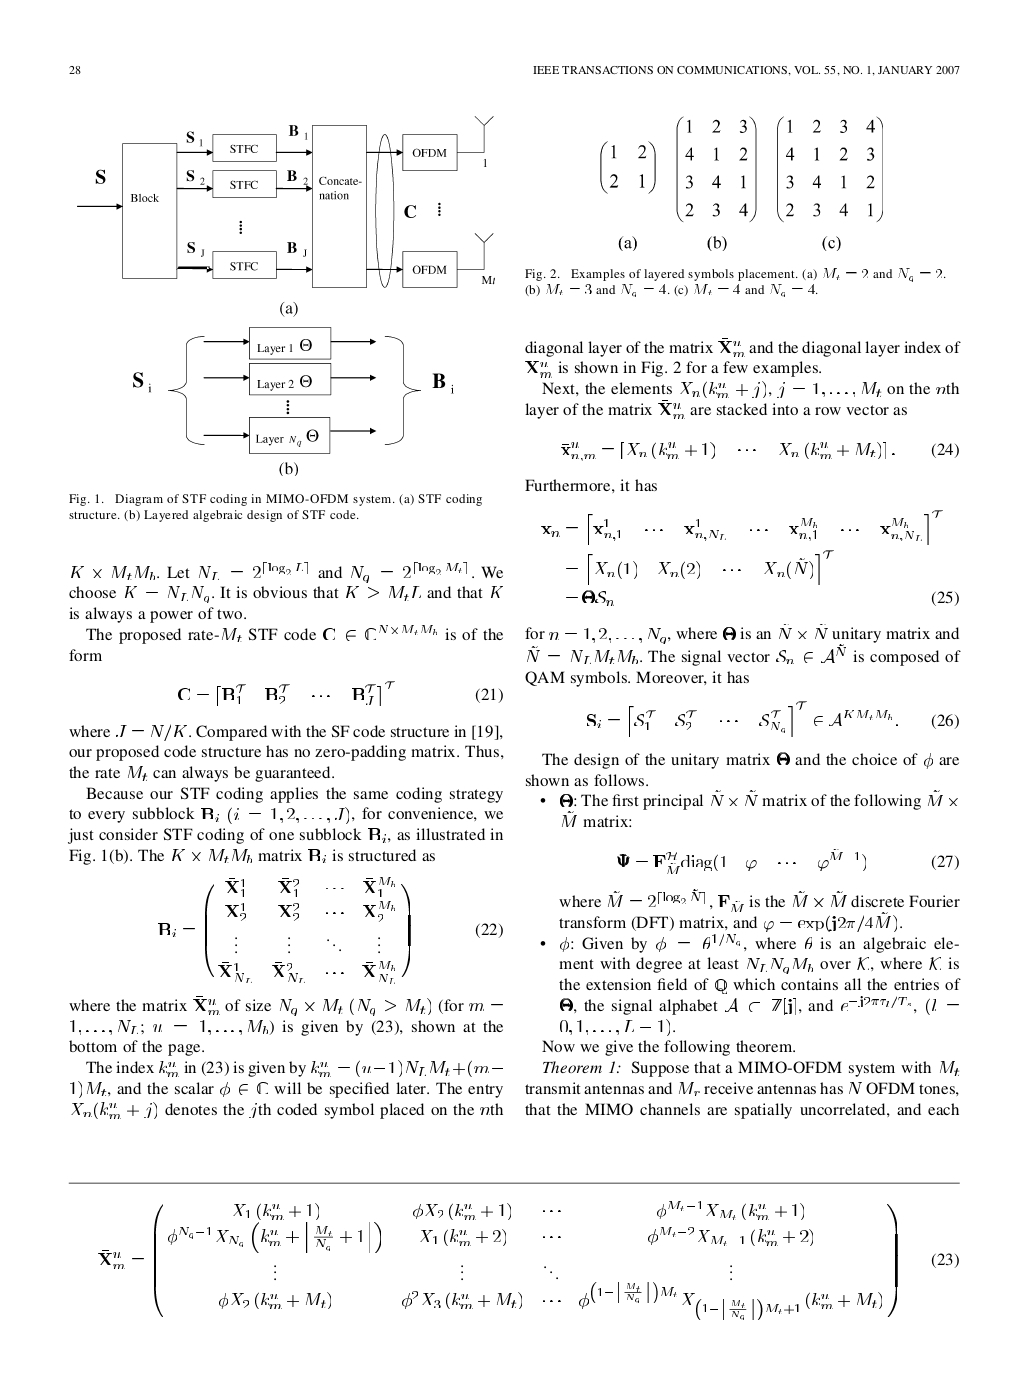figure: (77, 115, 494, 288), (133, 325, 453, 454)
formula: (98, 1200, 958, 1320), (158, 875, 502, 983), (600, 115, 882, 223), (541, 509, 942, 545), (587, 700, 958, 737), (566, 549, 833, 585), (179, 679, 502, 707), (617, 851, 958, 874), (562, 441, 958, 461), (566, 589, 958, 606)
